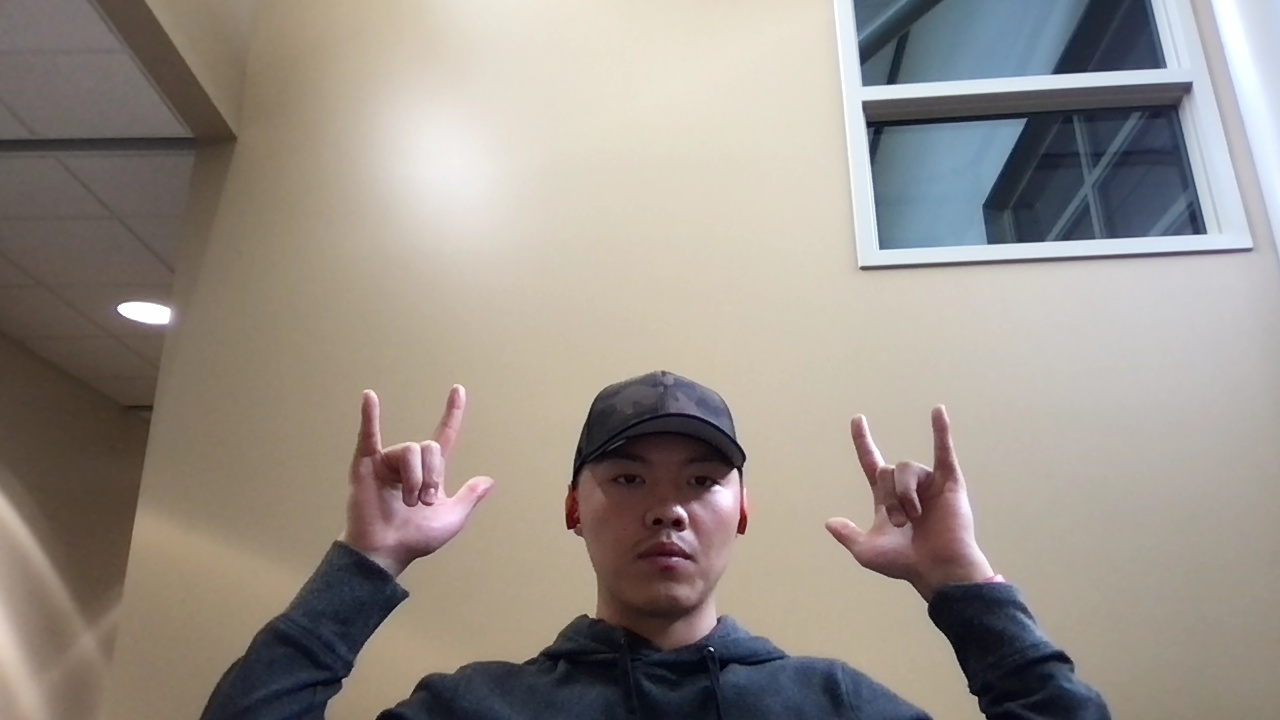I Love You: (337, 381, 506, 572), (833, 405, 998, 583)
